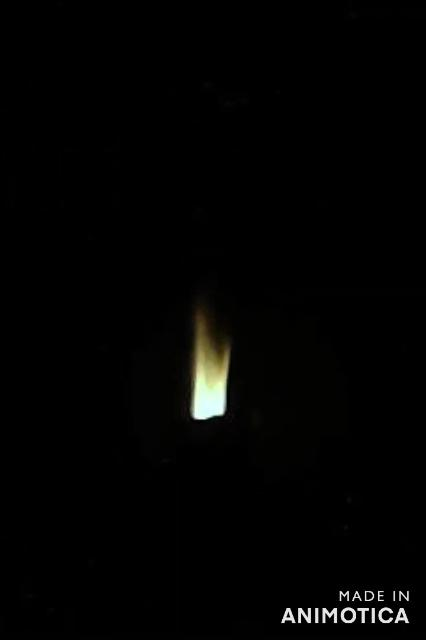burner flame: (190, 303, 234, 425)
